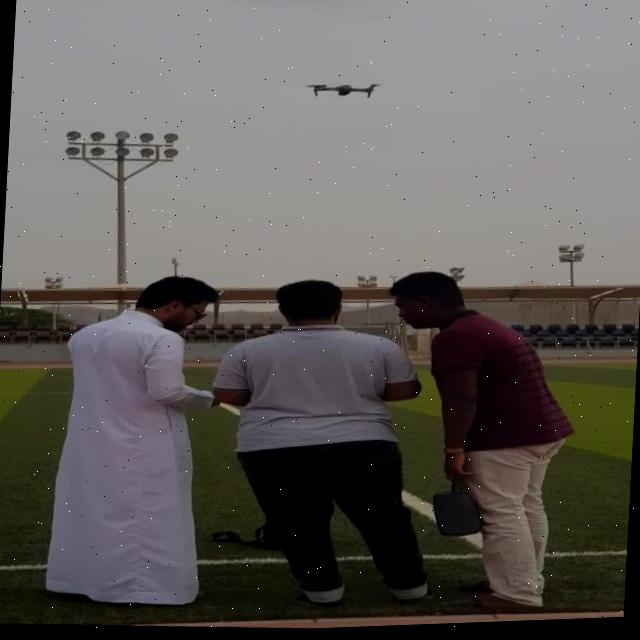drone: (301, 81, 381, 102)
